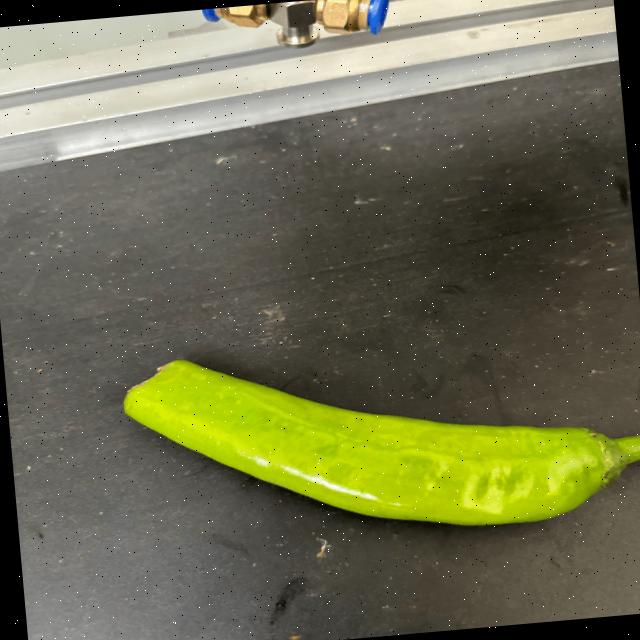chili: (118, 359, 633, 527)
